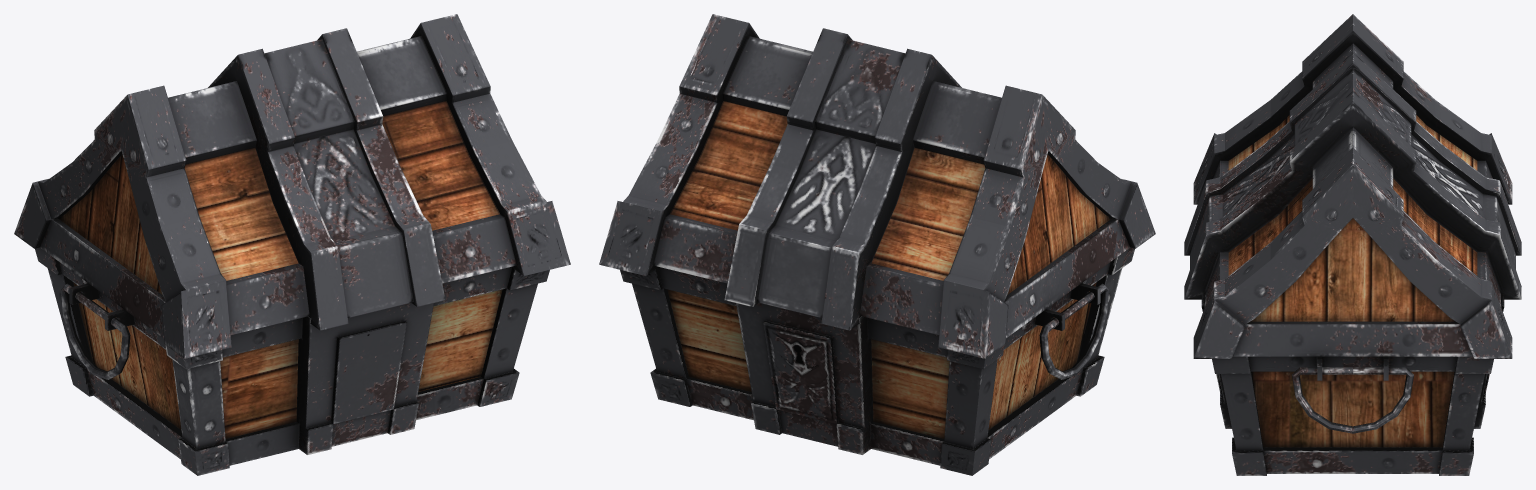
The model's file is TreasureBox.fbx.
The picture shows the model from 3 angles, left to right: view 1: azimuth 30°, elevation 25°; view 2: azimuth 150°, elevation 25°; view 3: azimuth 270°, elevation 25°; orthographic projection. The views are drawn at different scales.
Visible parts, largest first — view 1: polySurface10:ZBrush_defualt_group, polySurface23; view 2: polySurface10:ZBrush_defualt_group, polySurface23; view 3: polySurface10:ZBrush_defualt_group, polySurface23.
Boxes of the visible parts, x1,y1,x2,y2 form: polySurface10:ZBrush_defualt_group: [14, 14, 570, 358]; polySurface23: [35, 247, 549, 475]; polySurface10:ZBrush_defualt_group: [599, 14, 1155, 358]; polySurface23: [620, 247, 1134, 475]; polySurface10:ZBrush_defualt_group: [1184, 14, 1521, 358]; polySurface23: [1201, 294, 1504, 475].
Size of the model in its own units: 4.78 by 3.93 by 3.67.
